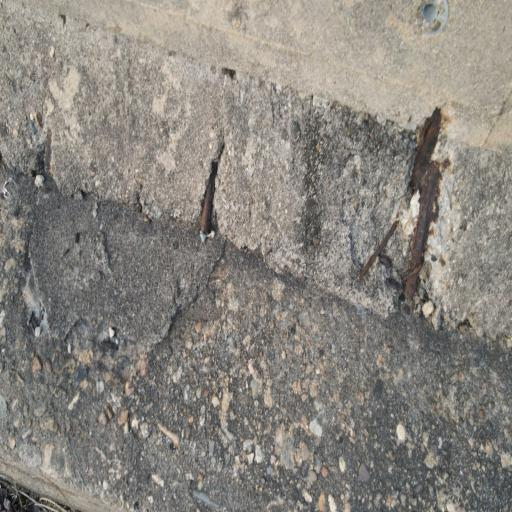exposed_rebar: (402, 108, 441, 300), (357, 213, 400, 281), (200, 139, 224, 240), (44, 130, 51, 171)
